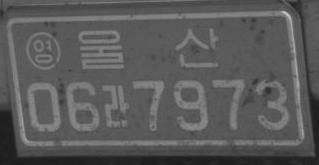0: (25, 81, 62, 132)
3: (255, 77, 290, 132)
6: (65, 80, 101, 133)
7: (211, 77, 246, 130), (132, 79, 166, 132)
9: (171, 77, 208, 132)
라: (101, 83, 130, 128)
영: (25, 31, 60, 70)
울산_D: (78, 27, 219, 72)
